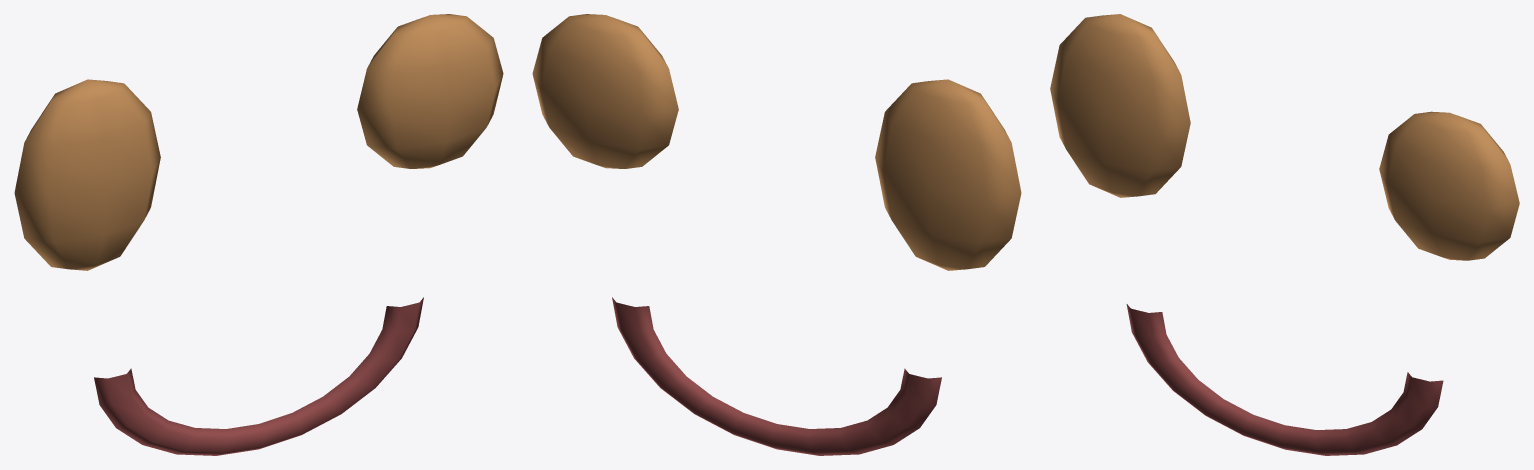
Rendered from resident_01_face.glb.
3 views of the same model, side by side, from view 1: azimuth 30°, elevation 25°; view 2: azimuth 150°, elevation 25°; view 3: azimuth 330°, elevation 25° (orthographic). The views are drawn at different scales.
Parts seen in each view (by area): view 1: eye_l, eye_r, mouth; view 2: eye_l, eye_r, mouth; view 3: eye_l, eye_r, mouth.
Boxes of the visible parts, <box> form: eye_l: <box>14,79,160,270</box>; eye_r: <box>357,14,503,168</box>; mouth: <box>94,297,423,455</box>; eye_l: <box>875,79,1021,270</box>; eye_r: <box>532,14,678,168</box>; mouth: <box>612,297,941,455</box>; eye_l: <box>1050,14,1190,197</box>; eye_r: <box>1379,111,1519,260</box>; mouth: <box>1126,304,1443,455</box>.
Size of the model in its own units: 0.314 by 0.2526 by 0.0423.
